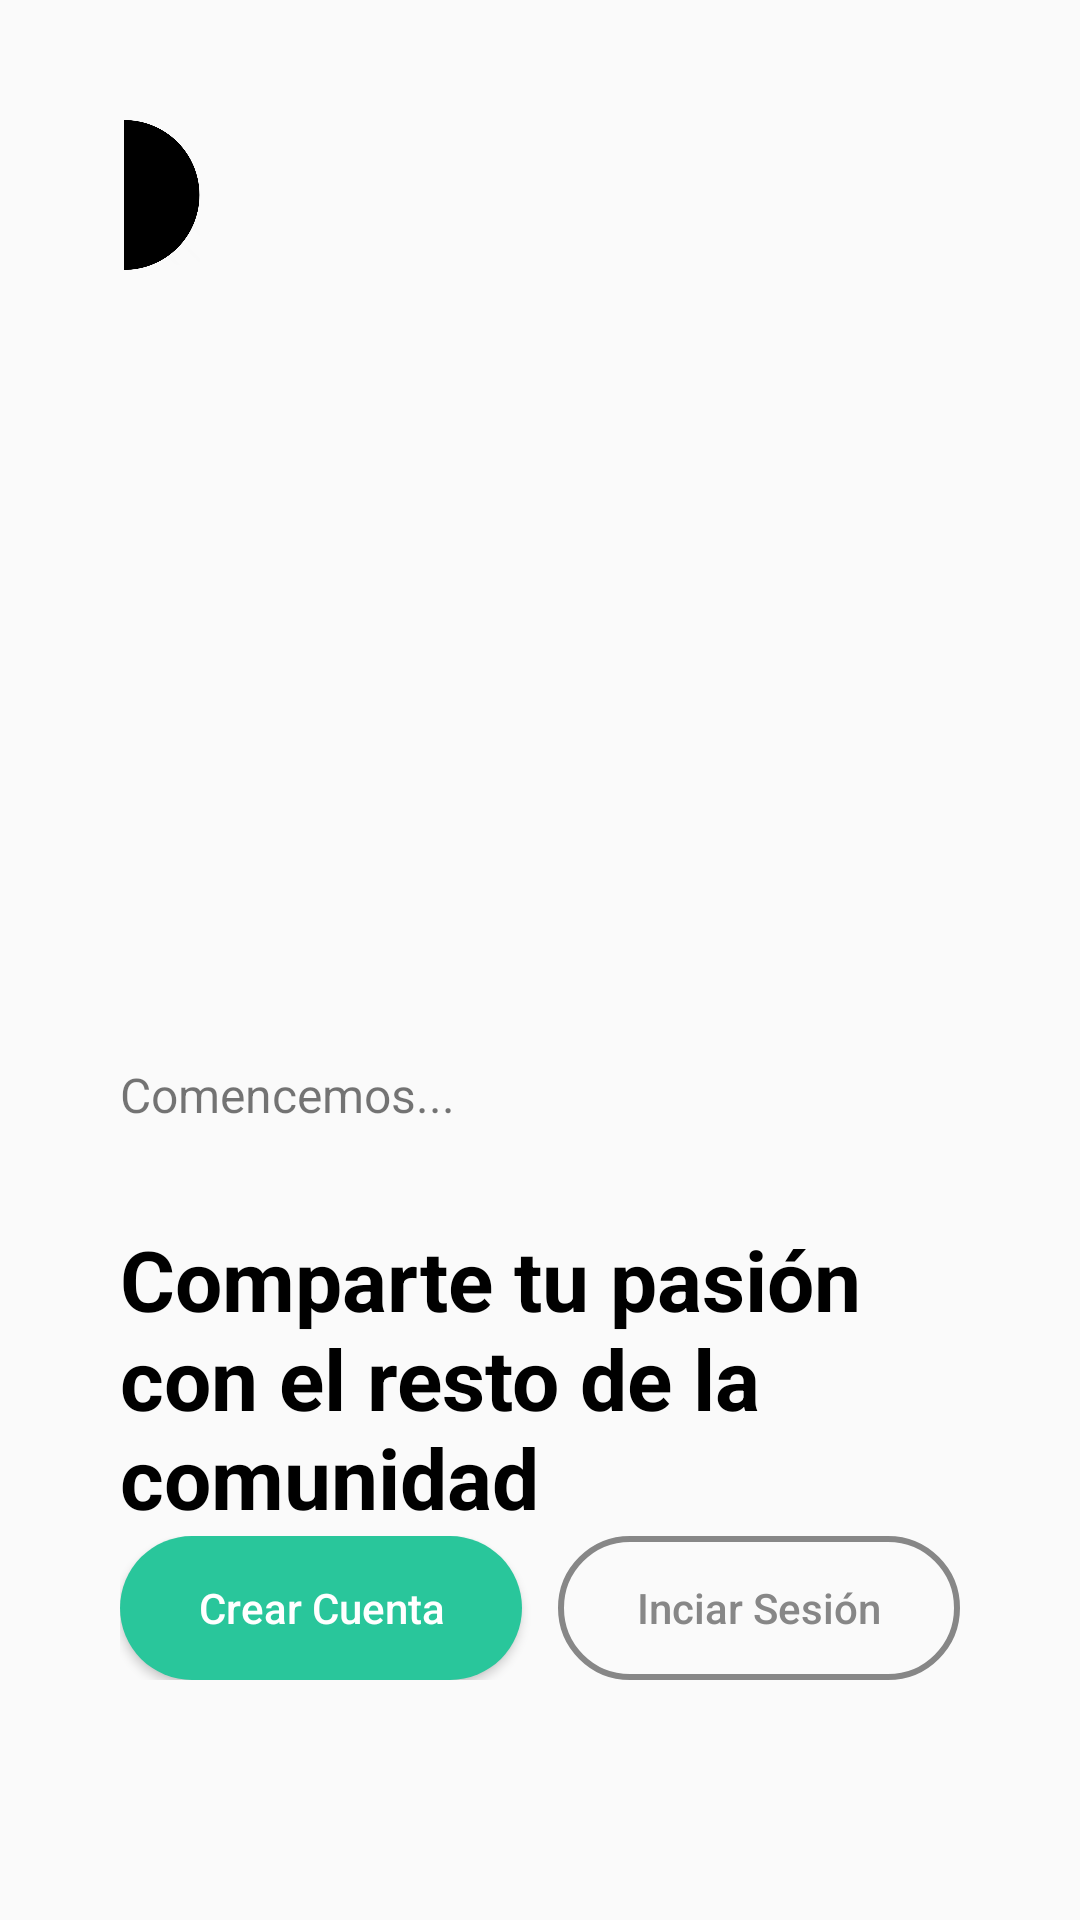

Named icons in this screenshot (1080x1920) and their bounding boxes, [x1,y1,x2,y2]:
semicirculo: [124,120,200,270]
